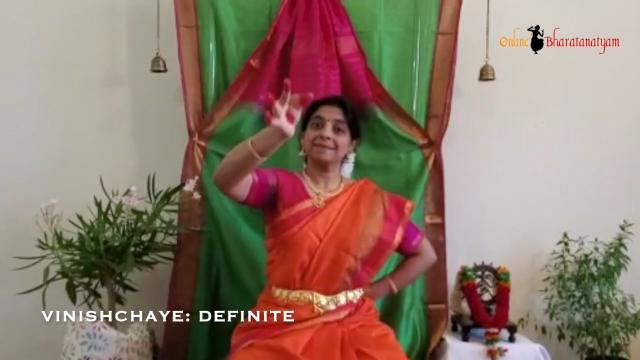hansaasya: (256, 68, 324, 150)
